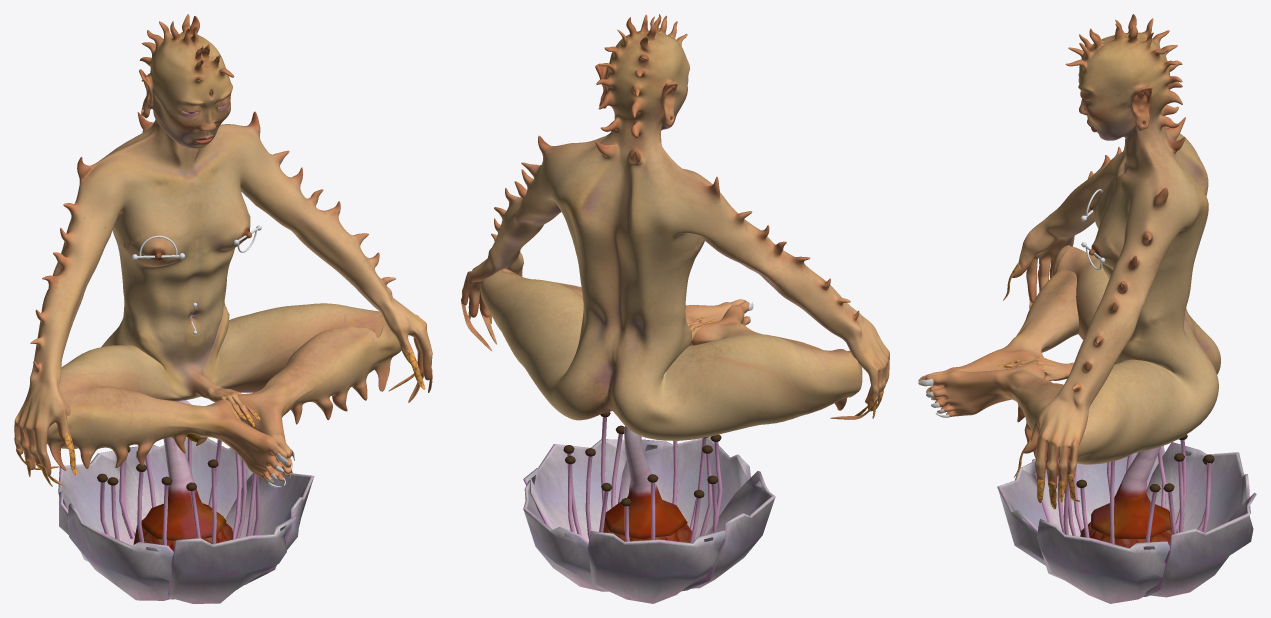
Rendered from mazu_for3jsWebsite_alternative.glb.
3 views of the same model, side by side, from view 1: azimuth 30°, elevation 25°; view 2: azimuth 150°, elevation 25°; view 3: azimuth 270°, elevation 25° (orthographic).
Parts seen in each view (by area): view 1: Body_geo, Peple4, Peple3, Peple1, Stemies, Peple2, Stempel, Peple5; view 2: Body_geo, Peple2, Peple5, Peple4, Stemies, Peple3, Stempel, Peple1; view 3: Body_geo, Peple5, Peple2, Peple1, Stemies, Stempel, Peple4, Peple3.
Part boxes in pixels (x1,y1,x2,y2): Body_geo: (14, 14, 432, 487); Peple4: (167, 516, 296, 603); Peple3: (67, 503, 175, 600); Peple1: (124, 436, 252, 535); Stemies: (97, 438, 260, 545); Peple2: (58, 451, 146, 545); Stempel: (141, 400, 226, 540); Peple5: (221, 473, 314, 584); Body_geo: (461, 14, 889, 440); Peple2: (588, 530, 725, 603); Peple5: (523, 439, 626, 541); Peple4: (618, 436, 750, 540); Stemies: (563, 411, 722, 542); Peple3: (675, 471, 775, 591); Stempel: (604, 426, 687, 538); Peple1: (523, 480, 630, 591); Body_geo: (918, 14, 1220, 509); Peple5: (1037, 519, 1169, 603); Peple2: (1146, 442, 1250, 532); Peple1: (1144, 492, 1256, 597); Stemies: (1057, 434, 1214, 543); Stempel: (1091, 446, 1171, 538); Peple4: (997, 461, 1103, 565); Peple3: (1032, 446, 1164, 536).
Bounding box in the file's own units: 1.2 × 1.55 × 0.8457.
7 materials, 4 textured.
